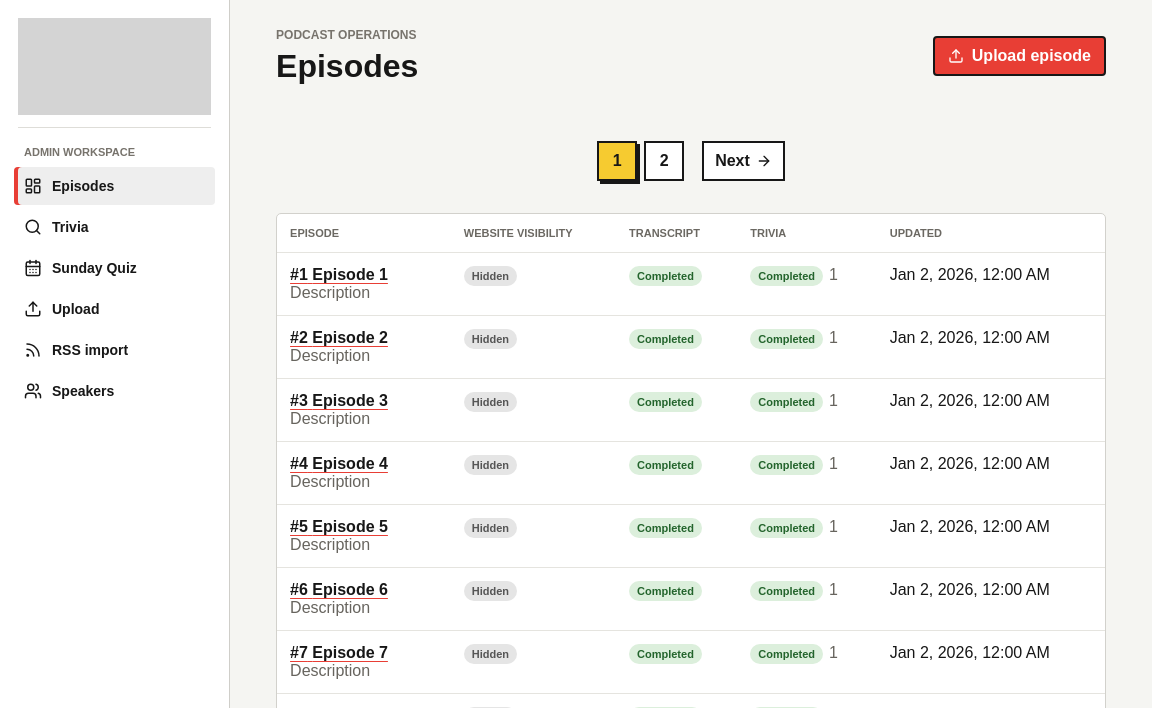
Test: episode workspace routing › paginates the episodes table at 30 items per page
The image size is (1152, 708).
Expected: the link "#1 Episode 1" is shown, [290,266,388,283]
Click the button "Next" at (744, 161), box [702,141,785,181]
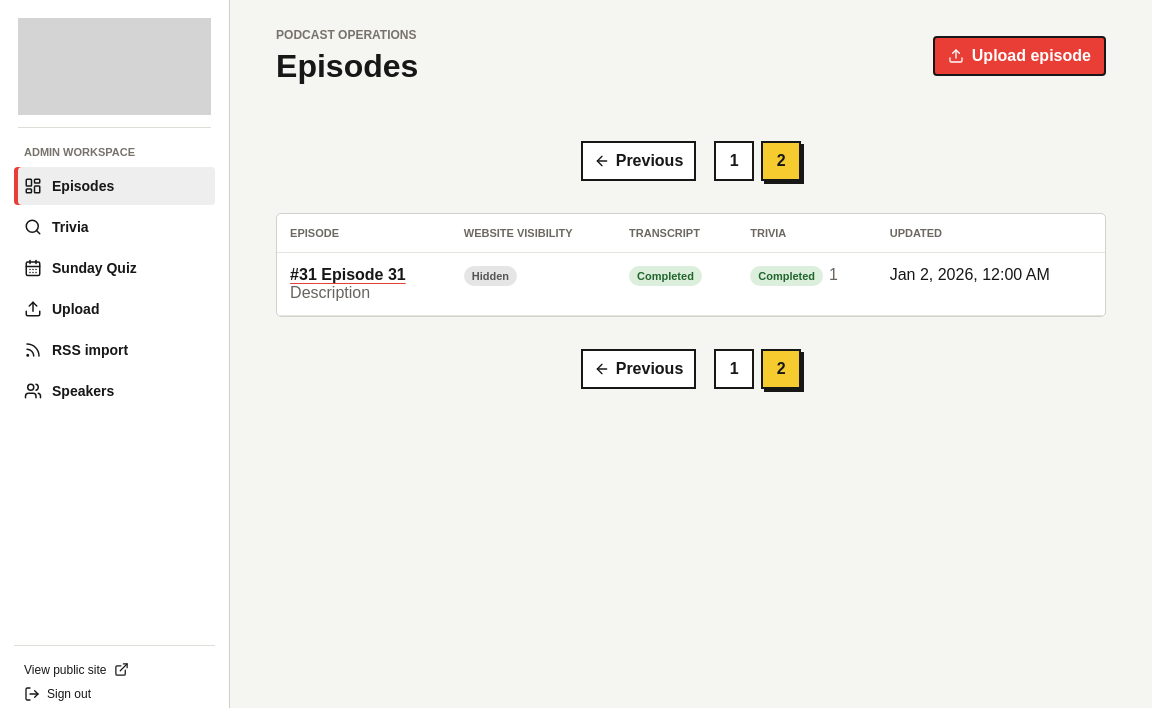
Expected: the link "#31 Episode 31" is shown, [290,266,406,283]
